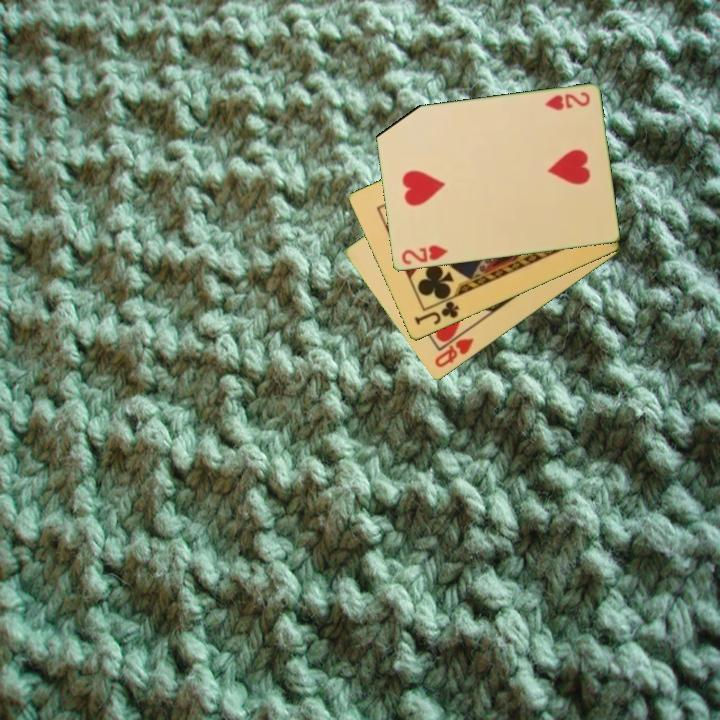2h: (398, 242, 450, 268), (541, 88, 593, 114)
Jc: (410, 298, 462, 328)
Qh: (431, 335, 477, 371)
